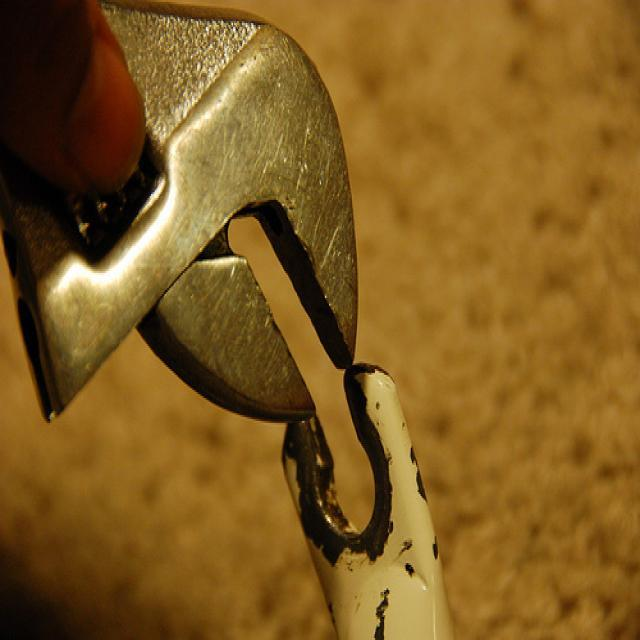wrench: (0, 0, 364, 436)
